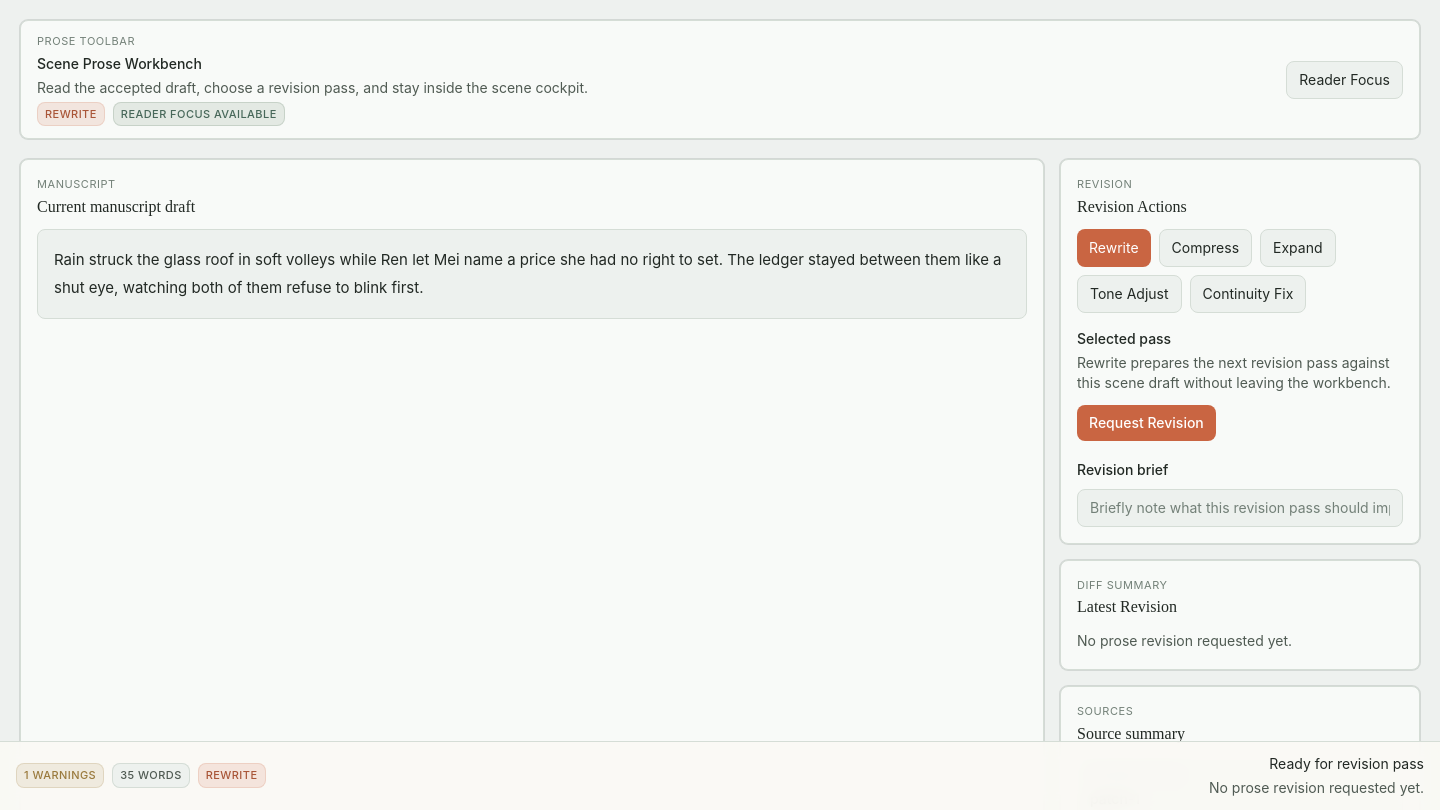
Test case: SceneProseContainer › refetches bridge-backed prose after revise without mutating fallback fixtures
Expected: the heading "Current manuscript draft" is shown, x1=37 y1=196 x2=195 y2=216
Click the button "Compress" at {"x": 1205, "y": 248}, box x1=1159 y1=228 x2=1252 y2=266
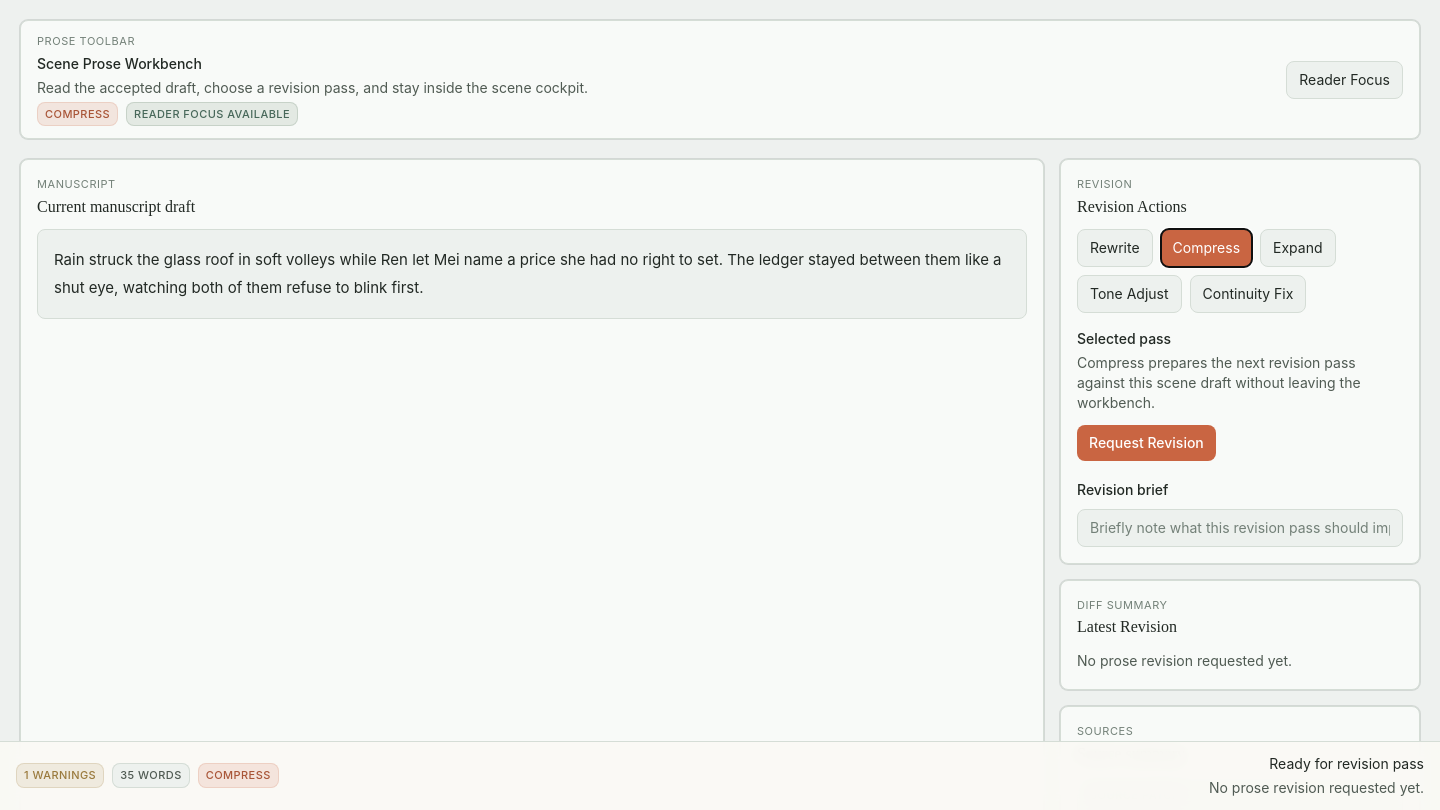
Click the button "Request Revision" at {"x": 1146, "y": 442}, box x1=1077 y1=424 x2=1216 y2=460
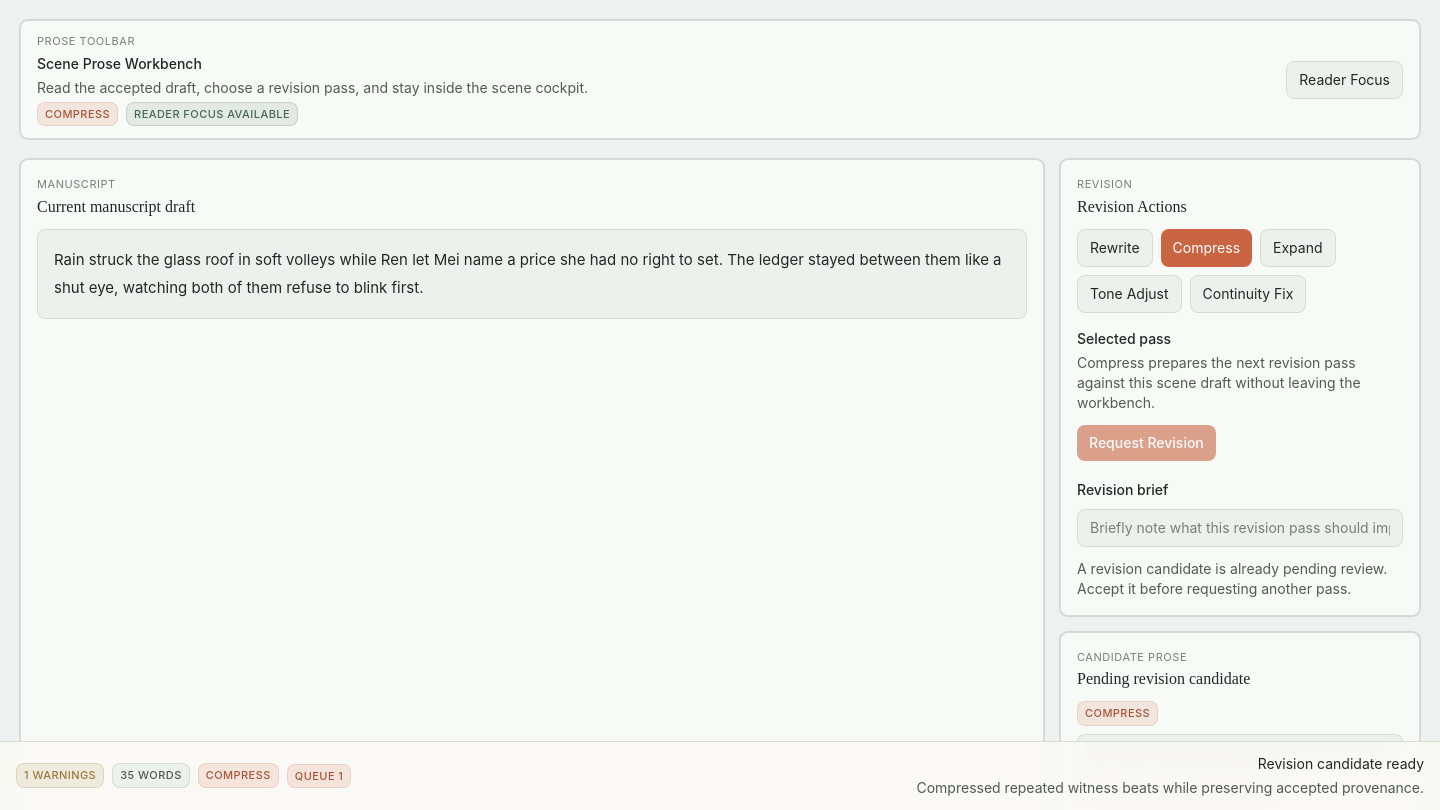
Result: the text "Queue 1" is shown at x1=287 y1=764 x2=351 y2=788
